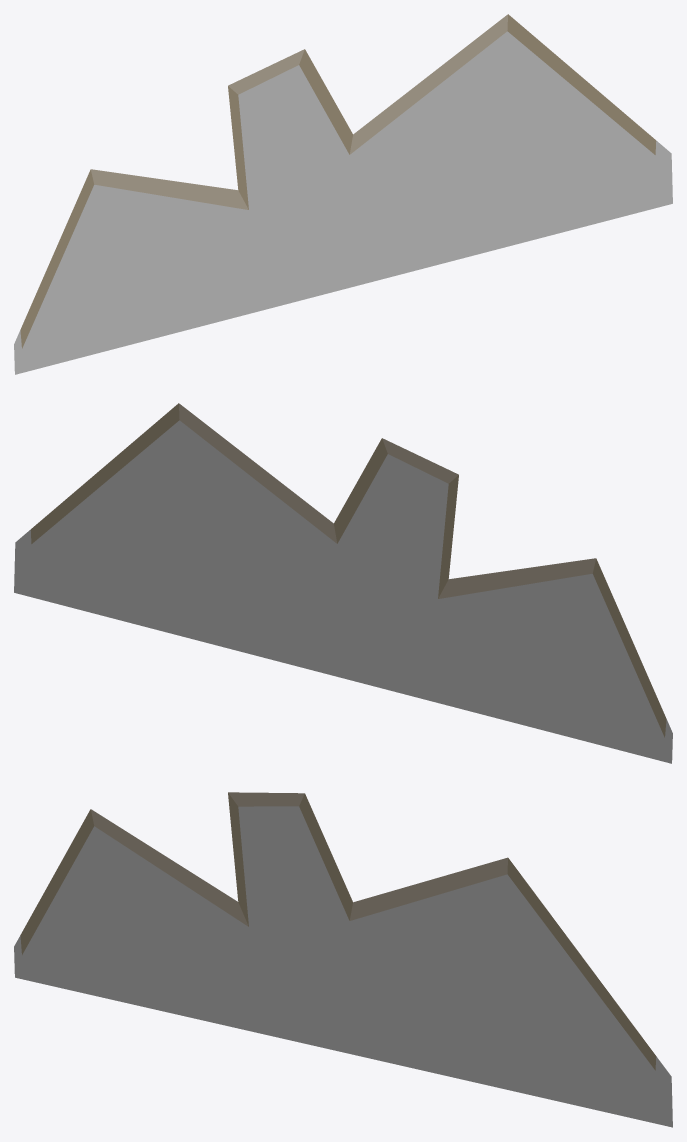
The model's file is treasureQuestPuzzlePiecesF.glb.
3 views of the same model, one above another, from view 1: azimuth 30°, elevation 25°; view 2: azimuth 150°, elevation 25°; view 3: azimuth 330°, elevation 25° (orthographic).
Parts seen in each view (by area): view 1: treasureQuestPuzzlePiecesF; view 2: treasureQuestPuzzlePiecesF; view 3: treasureQuestPuzzlePiecesF.
Part boxes in pixels (box(x1,y1,x2,y2)): treasureQuestPuzzlePiecesF: box(14, 14, 672, 374); treasureQuestPuzzlePiecesF: box(14, 403, 672, 763); treasureQuestPuzzlePiecesF: box(14, 792, 672, 1127).
Bounding box in the file's own units: 1.09 × 0.4051 × 0.
